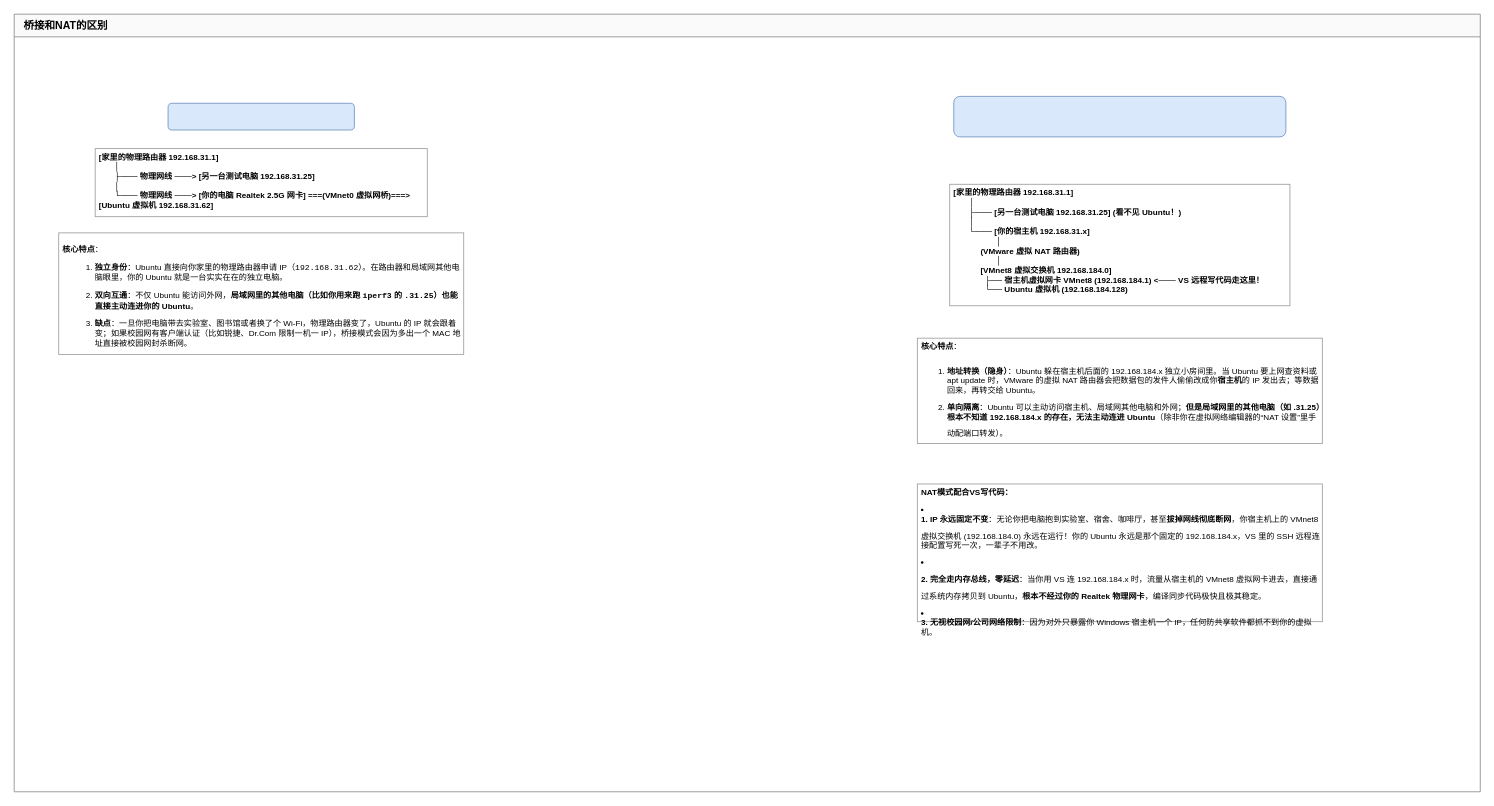
This 1494x806 diagram has some shape labels left out. Here are the shapes that lost their labels. From the top down, the centre of each, then its label:
At (x=260, y=116): "桥接网络 (Bridged) —— “合租室友，平起平坐”".
At (x=1119, y=116): "NAT 模式 (Network Address Translation) —— “大人带小孩，隐身幕后”".
